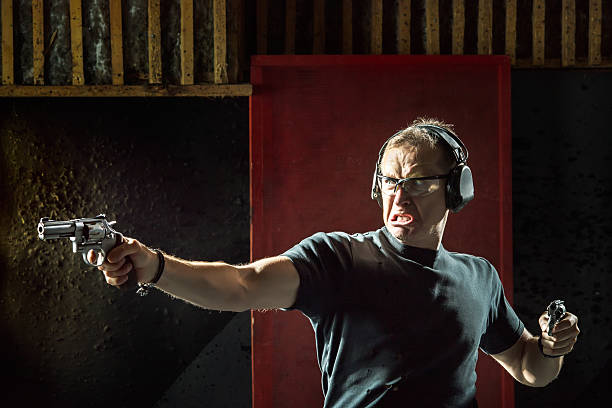gun: (35, 212, 119, 269)
